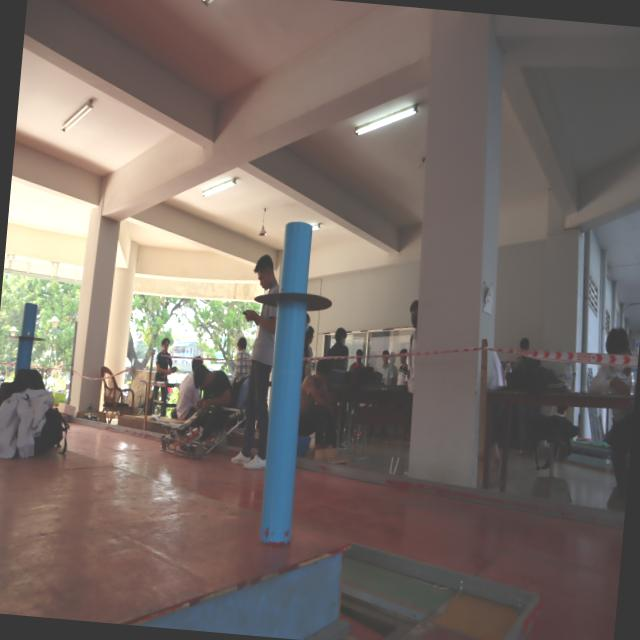pole: (247, 215, 341, 376), (3, 286, 50, 376)
